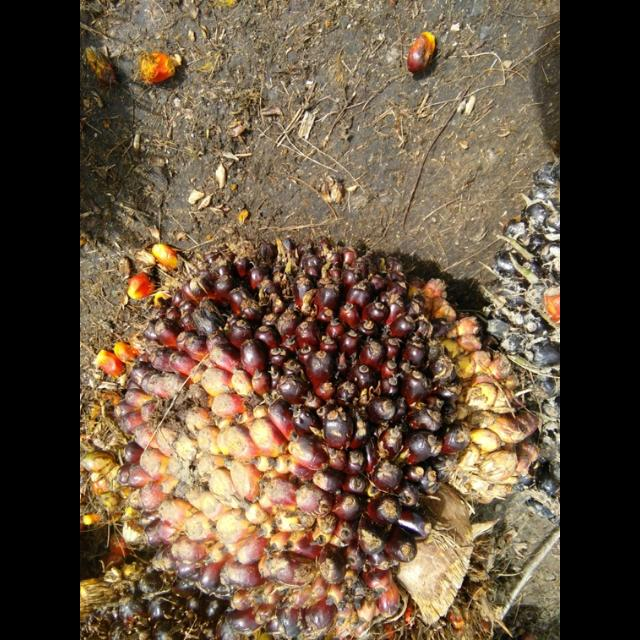Unripe: (82, 240, 537, 639)
